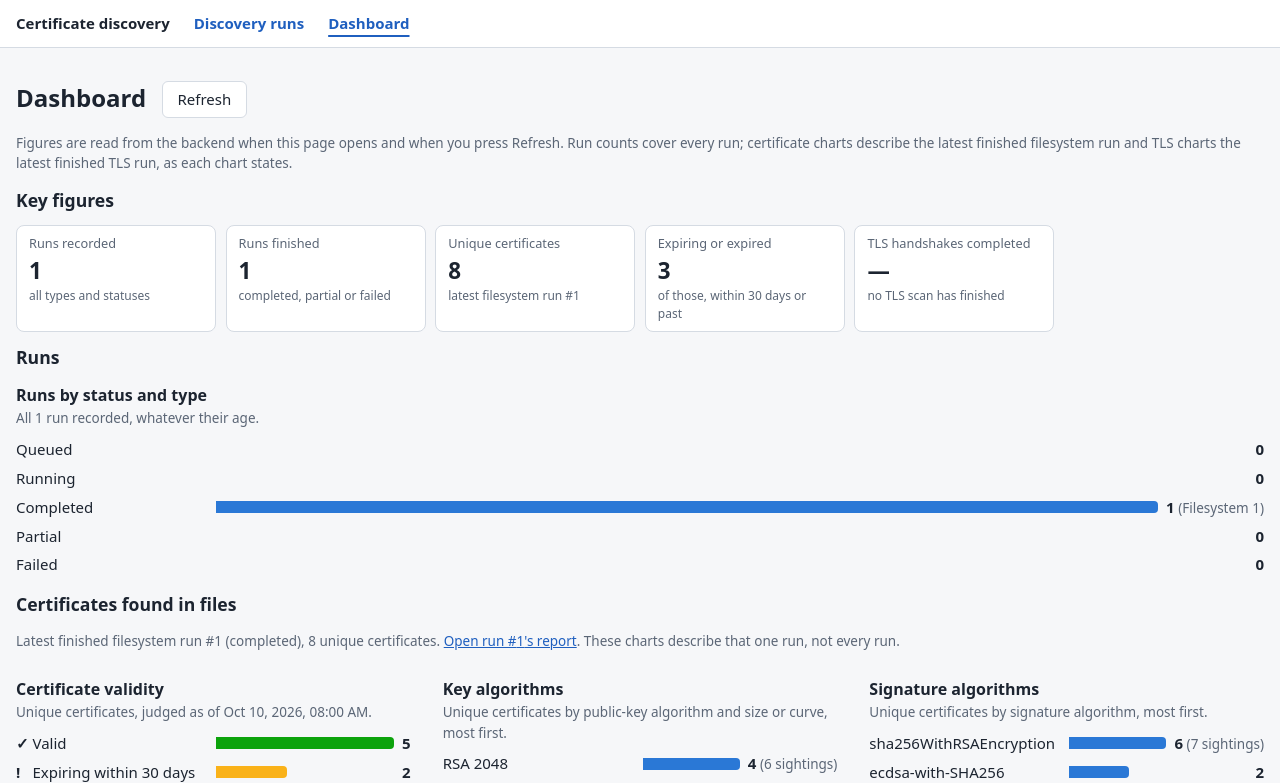
it: the Dashboard in the app › brings the user back to the runs list from the navigation
This screenshot has width=1280, height=783.
expect the heading "Dashboard" is shown: met, box [16,80,146,116]
Click the link "Discovery runs". click: (249, 23)
box: [194,12,304,34]
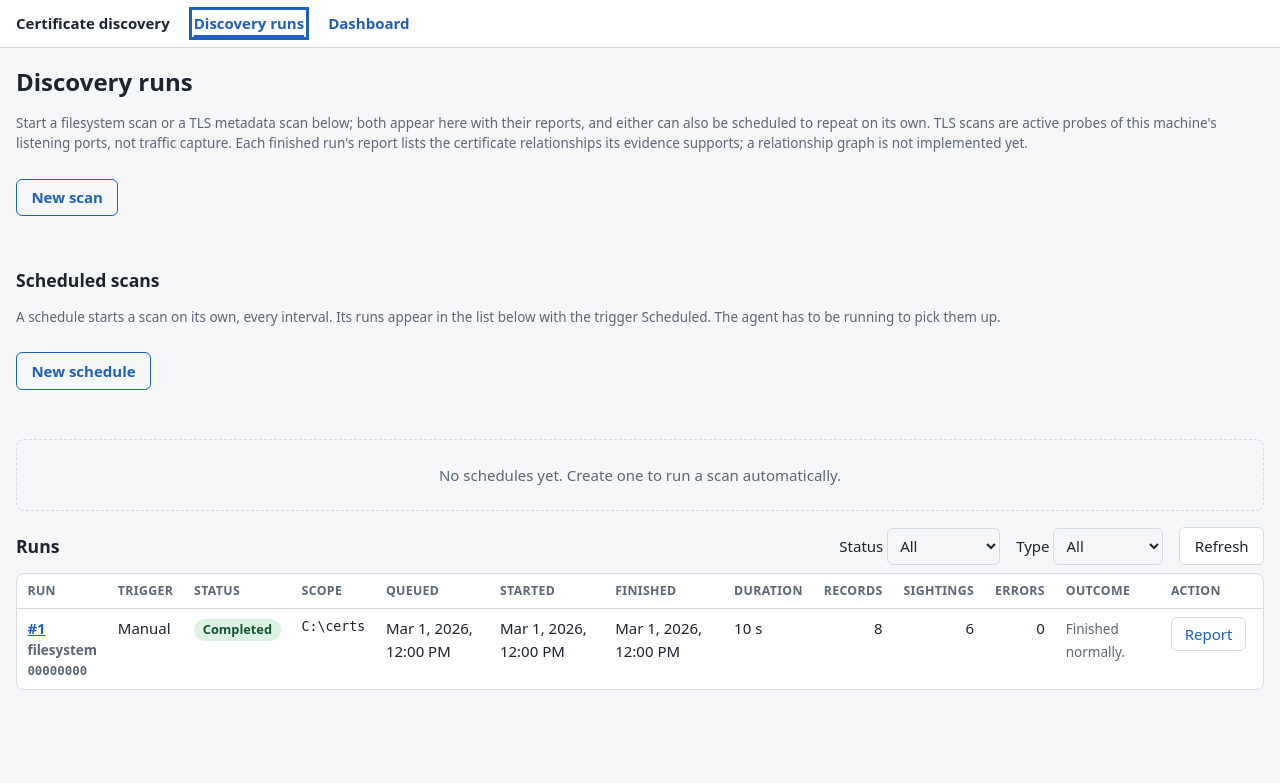
expect the heading "Discovery runs" is shown: met, box [16,64,193,98]
